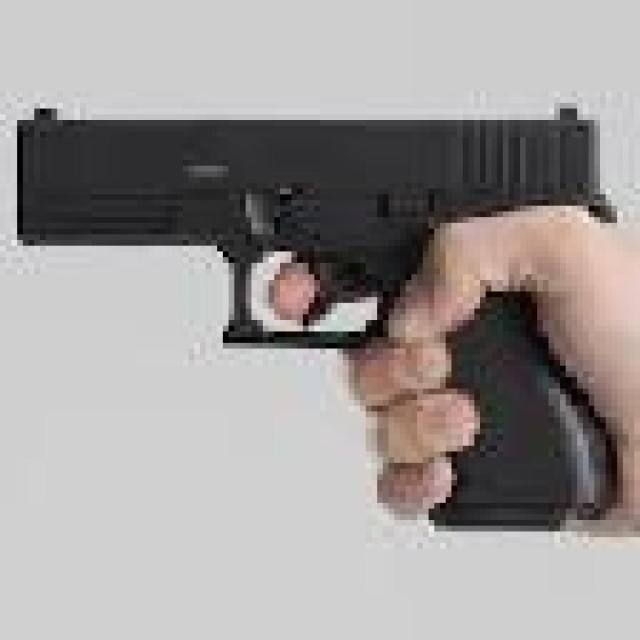pistol: (10, 92, 640, 570)
